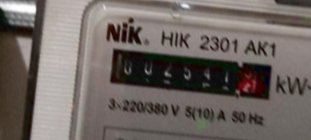0: (119, 53, 134, 75), (140, 53, 154, 75)
1: (218, 63, 231, 84)
2: (160, 56, 174, 77)
4: (199, 60, 214, 82)
5: (178, 57, 193, 81)
6: (239, 77, 252, 93)
screen: (97, 35, 284, 110)
